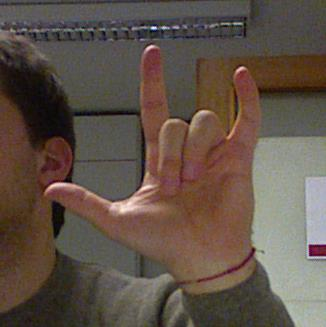back: (44, 45, 262, 263)
